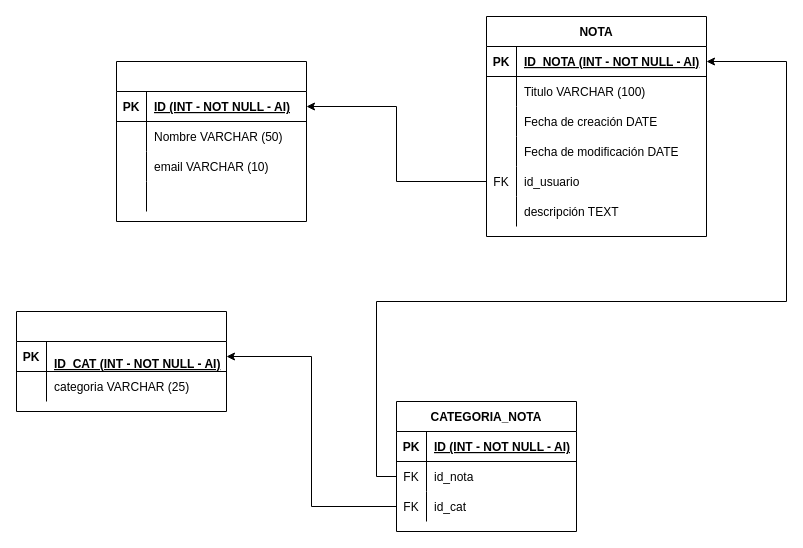
The diagram is 803 pixels wide and 548 high, and some of its shapes have lost their labels. Here are the shapes that lost their labels. From the top down, the box of each, then its label:
(116, 60, 306, 222): USUARIO
(16, 310, 226, 412): CATEGORIAS
